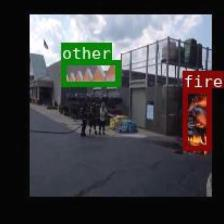fire: (182, 88, 211, 150)
